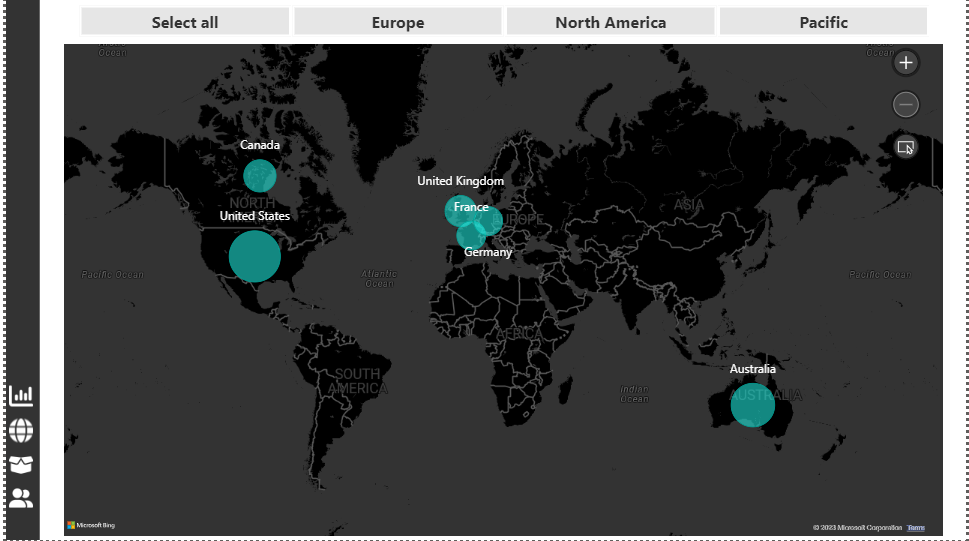

The dashboard page shown, as its layout file describes it:
{"tool":"powerbi","page":{"name":"Map","canvas":[1280,720],"ordinal":1},"visuals":[{"type":"shape","box":[0,0,45,720.4],"z":0},{"type":"actionButton","box":[0,553.9,45.7,40],"z":0,"group":"g1"},{"type":"map","fields":{"Category":["Territory Lookup.Country"],"Size":["Measure Table.Total Orders"]},"box":[71.6,54,1183,666],"z":1000},{"type":"actionButton","box":[0.1,599.4,45,40],"z":1000,"group":"g1"},{"type":"slicer","fields":{"Values":["Territory Lookup.Continent"]},"box":[71.6,0,1183,54],"z":2000},{"type":"actionButton","box":[0.1,645,45,40],"z":2000,"group":"g1"},{"type":"group","id":"g1","title":"Navigation Buttons","box":[0,508.3,45.7,176.7],"z":3000},{"type":"actionButton","box":[0.1,508.3,45,40],"z":3000,"group":"g1"}]}

Visuals, with their boxes on the page's 1280x720 design canvas (x1, y1, x2, y2). These are canvas units, not pixel positions in the 969x541 screenshot, which may show the page scaled, cropped or inside an application window:
shape: left=0, top=0, right=45, bottom=720
actionButton: left=0, top=554, right=46, bottom=594
map - Territory Lookup.Country x Measure Table.Total Orders: left=72, top=54, right=1255, bottom=720
actionButton: left=0, top=599, right=45, bottom=639
slicer - Territory Lookup.Continent: left=72, top=0, right=1255, bottom=54
actionButton: left=0, top=645, right=45, bottom=685
"Navigation Buttons" group: left=0, top=508, right=46, bottom=685
actionButton: left=0, top=508, right=45, bottom=548
